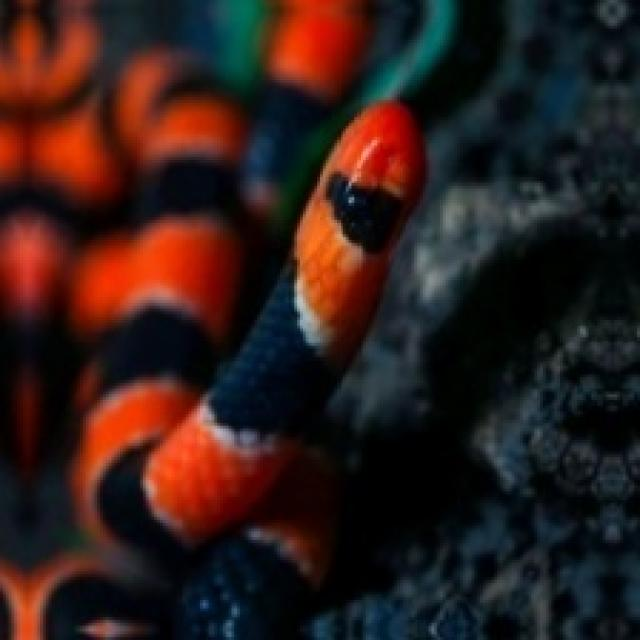barredcoral snake: (0, 0, 454, 637), (143, 100, 423, 543)
